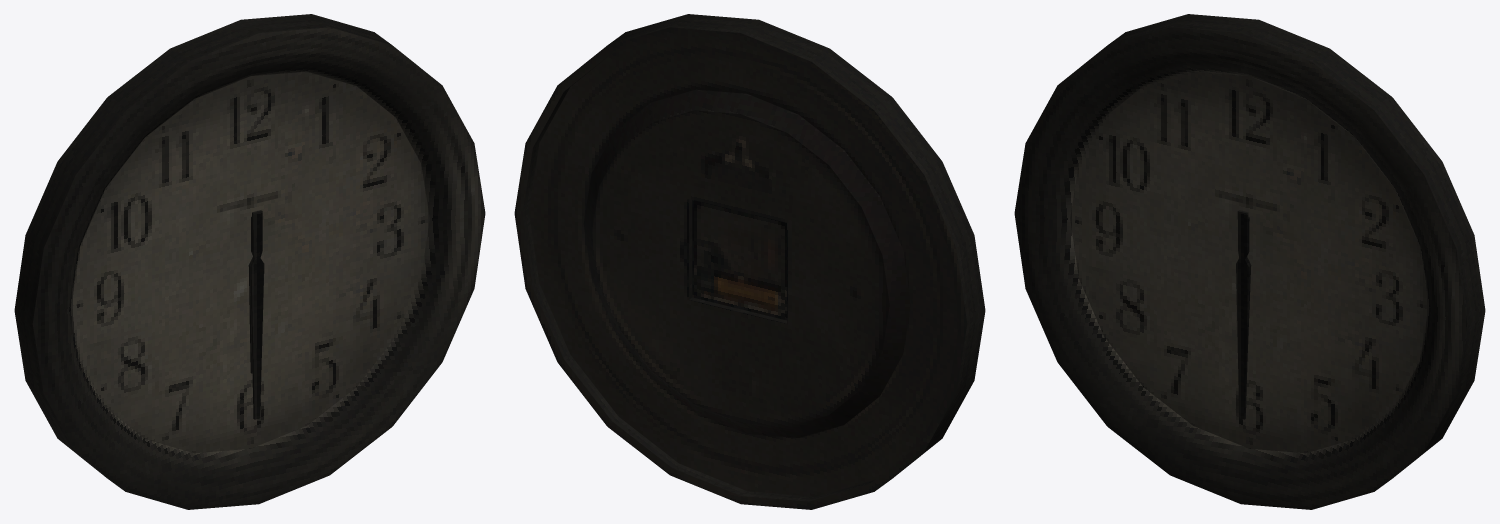
File: clock_2.glb
3 views of the same model, side by side, from view 1: azimuth 30°, elevation 25°; view 2: azimuth 150°, elevation 25°; view 3: azimuth 330°, elevation 25° (orthographic).
Visible parts, largest first — view 1: clock_2, clock_2_arm_minutes; view 2: clock_2; view 3: clock_2, clock_2_arm_minutes.
Part boxes in pixels (<box>): clock_2: <box>14,14,485,509</box>; clock_2_arm_minutes: <box>250,210,264,419</box>; clock_2: <box>514,14,985,509</box>; clock_2: <box>1014,14,1485,509</box>; clock_2_arm_minutes: <box>1236,210,1249,419</box>.
Bounding box in the file's own units: 0.2816 × 0.28 × 0.021.
1 material, 1 textured.
